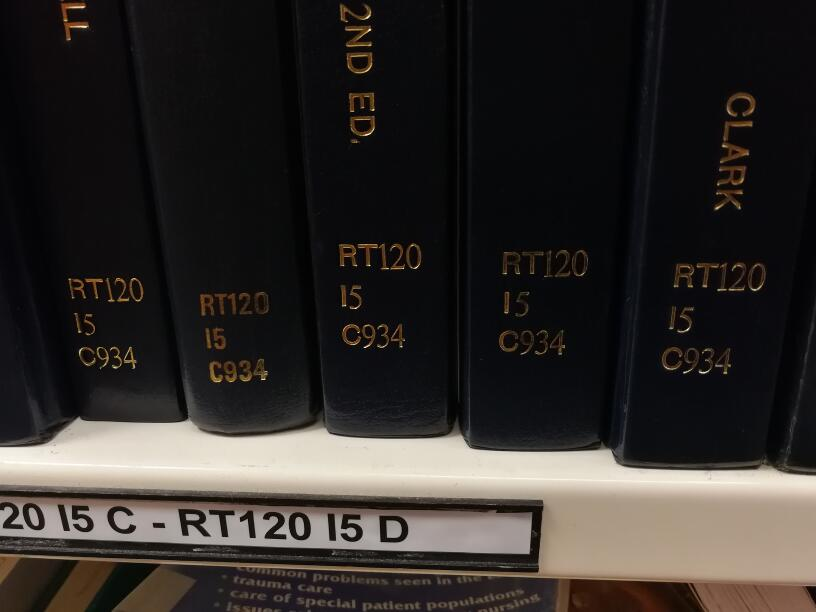booklabel: (657, 256, 775, 382), (491, 244, 595, 362), (329, 235, 427, 356), (63, 271, 149, 374), (193, 288, 276, 388)
